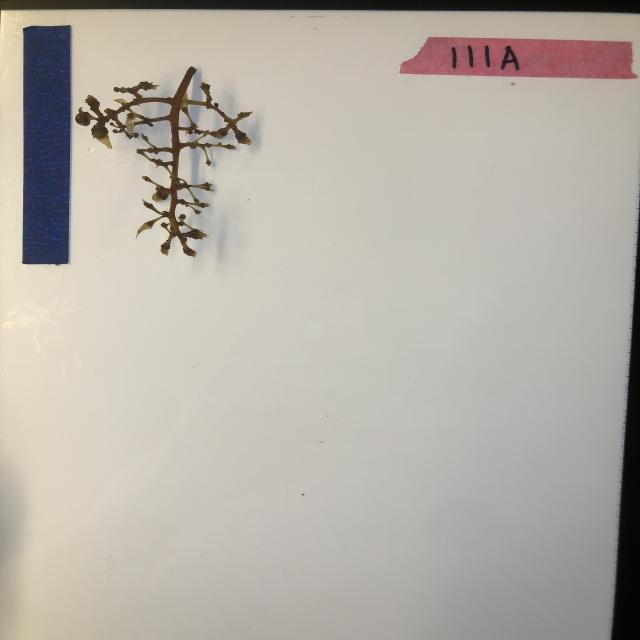index: (400, 36, 640, 80)
measure_label: (24, 24, 72, 265)
rachis_cluster: (76, 64, 258, 262)
